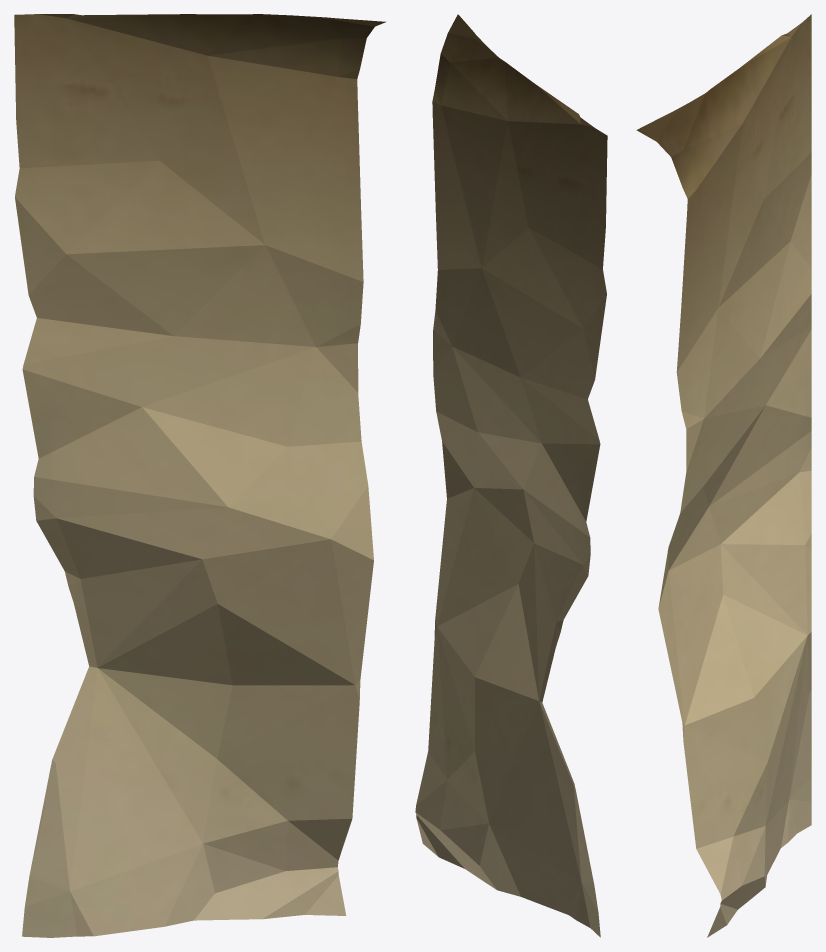
The picture shows the model from 3 angles, left to right: view 1: azimuth 30°, elevation 25°; view 2: azimuth 150°, elevation 25°; view 3: azimuth 270°, elevation 25°; orthographic projection. The views are drawn at different scales.
Size of the model in its own units: 0.2582 by 0.8374 by 0.1648.
1 material, 1 textured.
